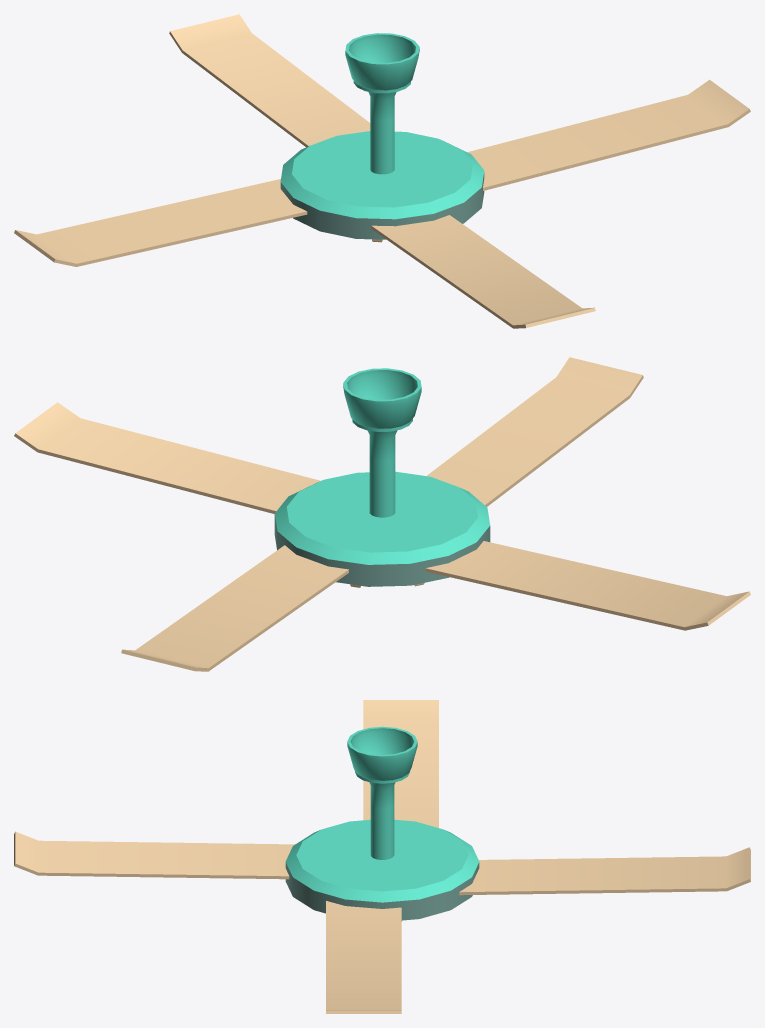
File: fan1.glb
The picture shows the model from 3 angles, top to bottom: view 1: azimuth 30°, elevation 25°; view 2: azimuth 150°, elevation 25°; view 3: azimuth 270°, elevation 25°; orthographic projection. The views are drawn at different scales.
Visible parts, largest first — view 1: Fan1_Tris; view 2: Fan1_Tris; view 3: Fan1_Tris.
Part boxes in pixels (box(x1,y1,x2,y2)): Fan1_Tris: box(14, 14, 750, 328); Fan1_Tris: box(14, 357, 750, 671); Fan1_Tris: box(14, 700, 750, 1013).
Size of the model in its own units: 3.79 by 0.8692 by 3.79.
